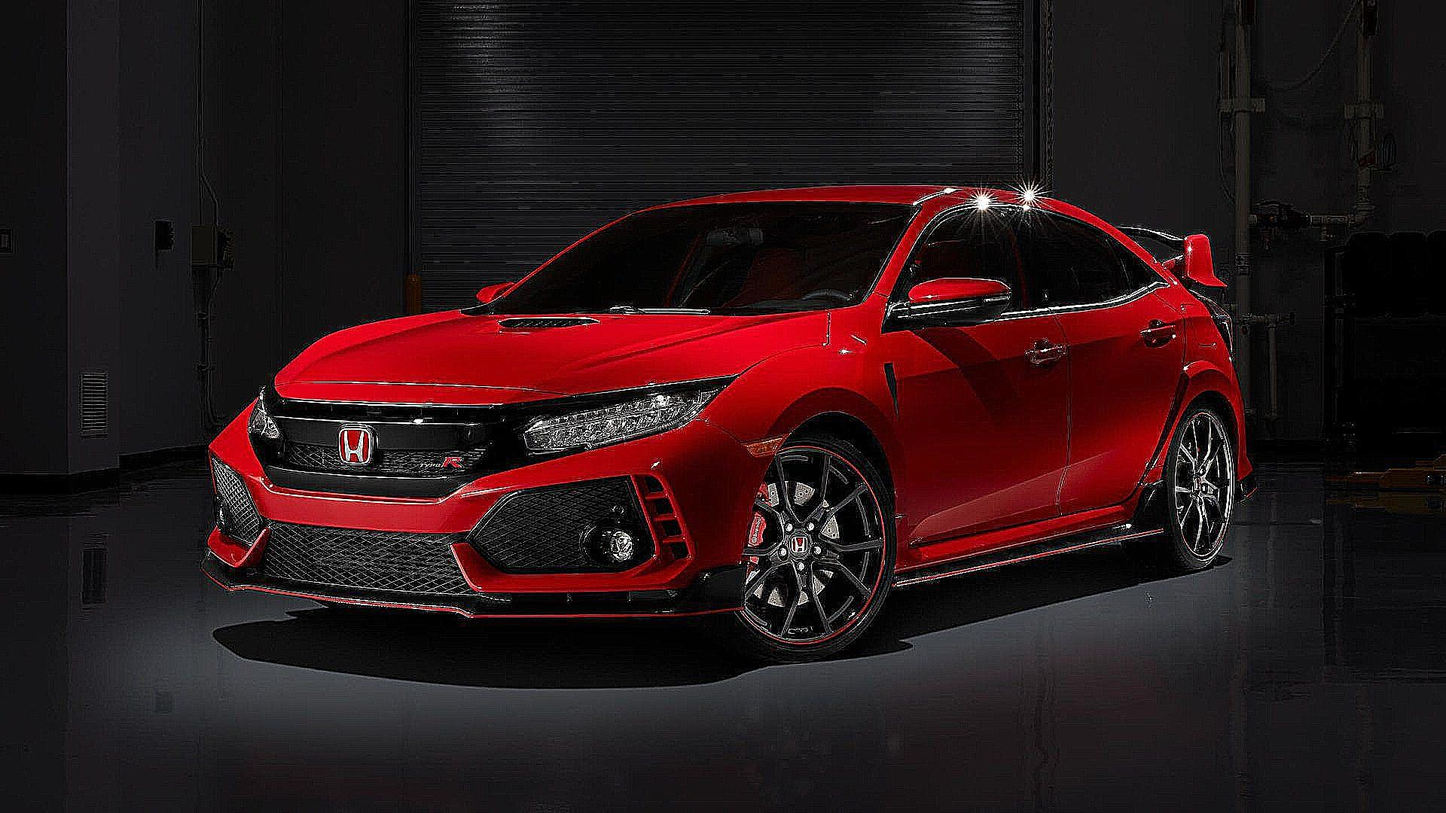Car hood: (260, 301, 866, 415)
Fender - -F-L-: (693, 302, 907, 598)
Fender - -R-L-: (1134, 261, 1247, 547)
Front bumper: (196, 419, 766, 625)
Headlight - -L-: (515, 373, 744, 461)
Passenger-s door - -F-L-: (880, 185, 1086, 600)
Passenger-s door - -R-L-: (1022, 186, 1190, 607)
Side bumper - -L-: (887, 487, 1171, 607)
Side mirror - -L-: (882, 271, 1017, 340)
